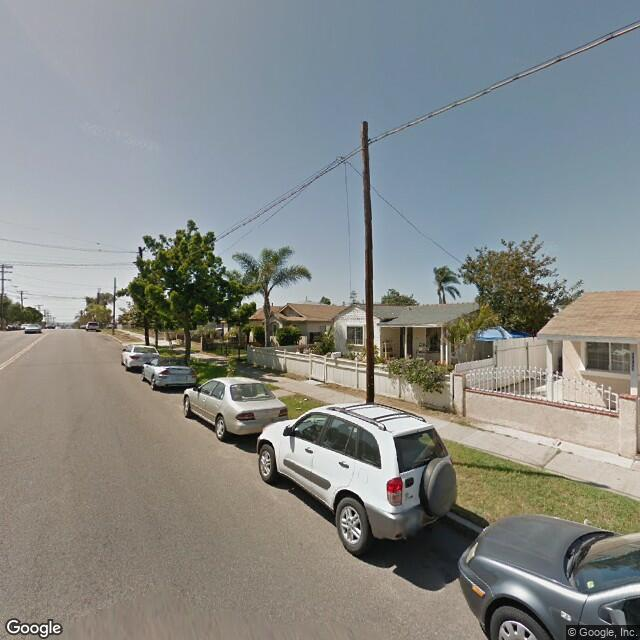litter: (291, 392, 318, 412)
